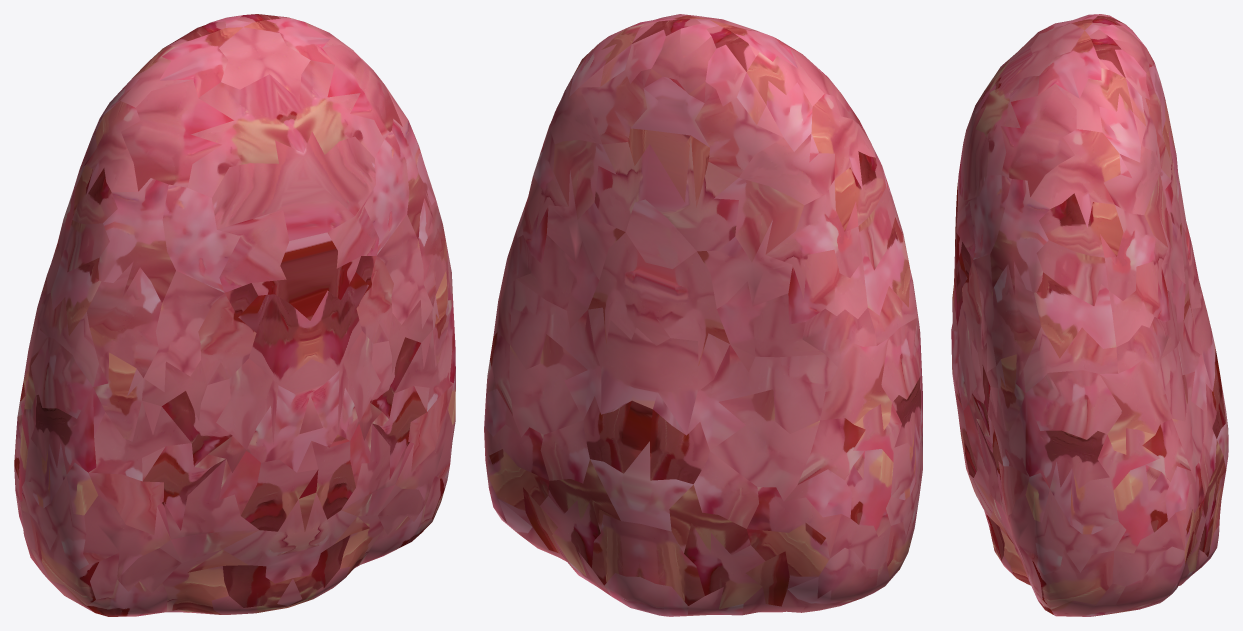
The model's file is FrontTooth.fbx.
3 views of the same model, side by side, from view 1: azimuth 30°, elevation 25°; view 2: azimuth 150°, elevation 25°; view 3: azimuth 270°, elevation 25° (orthographic). The views are drawn at different scales.
Parts seen in each view (by area): view 1: Mesh_0; view 2: Mesh_0; view 3: Mesh_0.
Part boxes in pixels (x1,y1,x2,y2): Mesh_0: [14, 14, 455, 616]; Mesh_0: [484, 14, 922, 616]; Mesh_0: [951, 14, 1228, 616].
Bounding box in the file's own units: 1.45 × 1.91 × 0.906.
